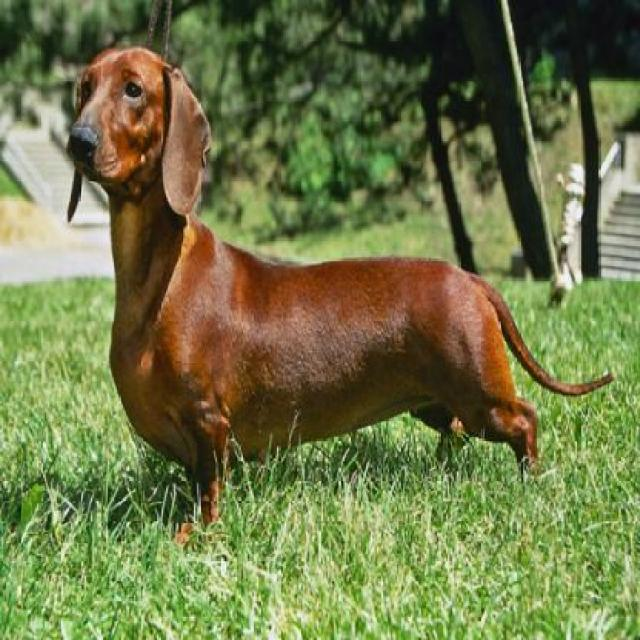Dog: (63, 38, 612, 536)
